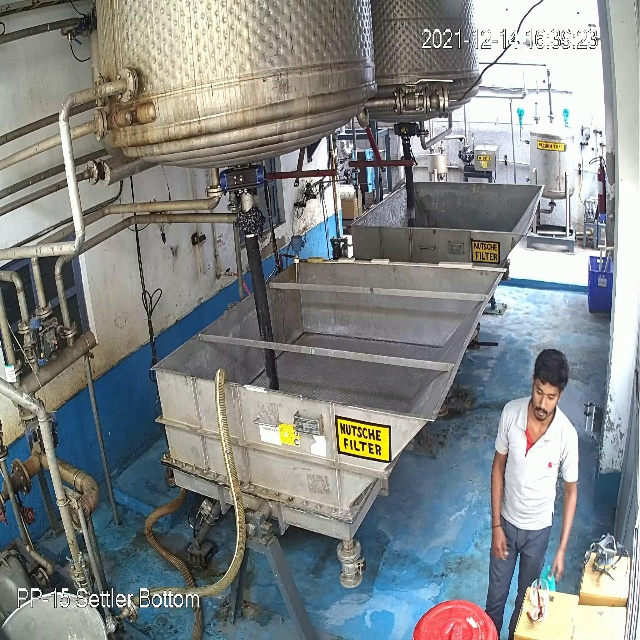Sin_gafas: (530, 382, 562, 408)
Sin_mascara: (529, 393, 559, 424)
